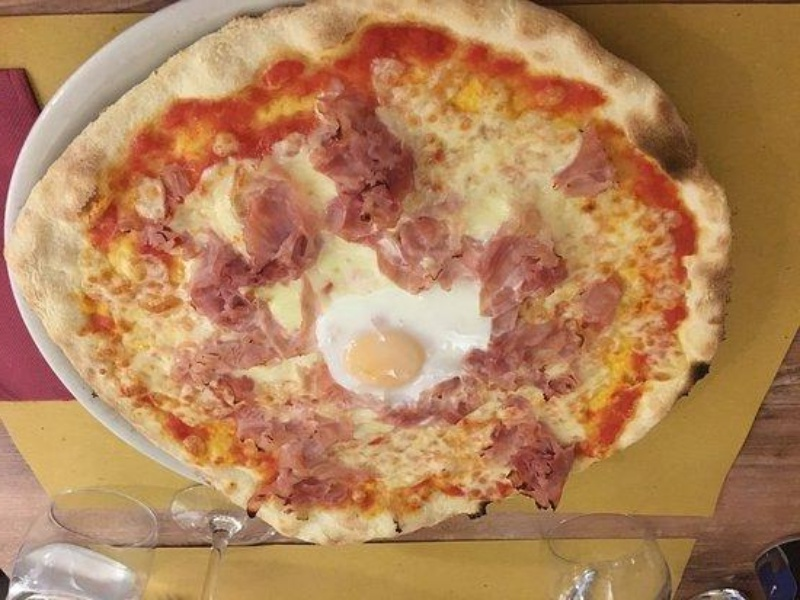oeuf: (331, 302, 446, 396)
